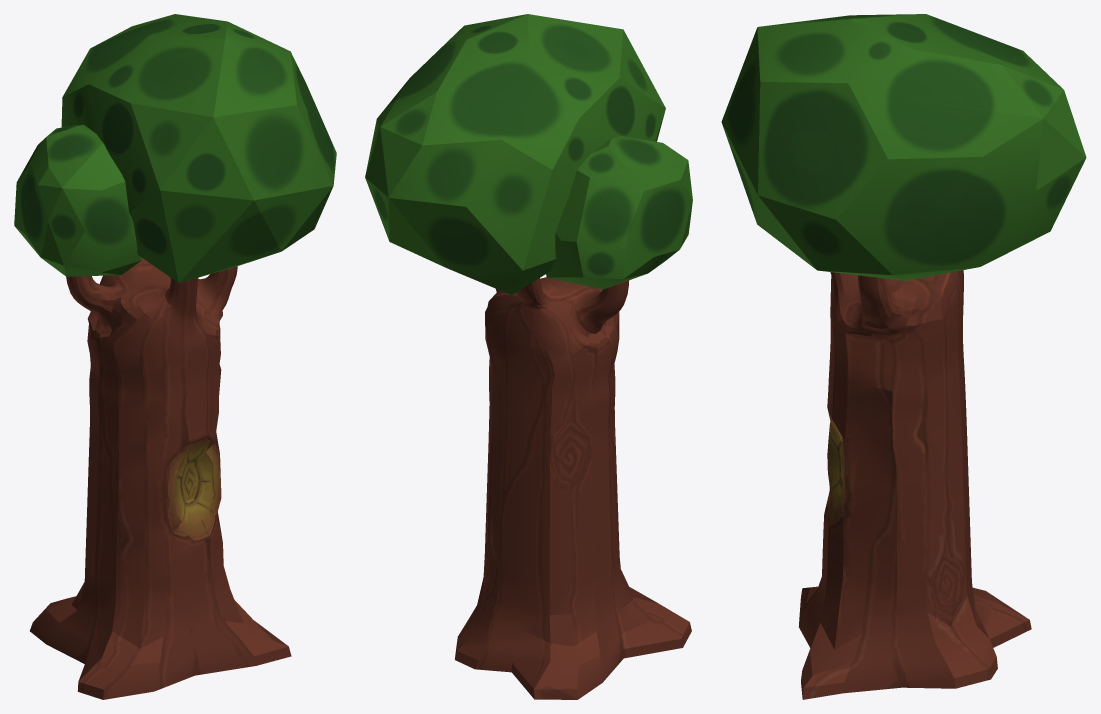
The model's file is üçüncü ağaç 2.fbx.
3 renders of one model, left to right at view 1: azimuth 30°, elevation 25°; view 2: azimuth 150°, elevation 25°; view 3: azimuth 270°, elevation 25°, orthographic. The views are drawn at different scales.
Visible parts, largest first — view 1: Plane.003; view 2: Plane.003; view 3: Plane.003.
Boxes of the visible parts, <box> form: Plane.003: <box>14,14,336,699</box>; Plane.003: <box>365,14,692,699</box>; Plane.003: <box>721,14,1086,699</box>.
Size of the model in its own units: 668 by 1412 by 708.
Materials: 1 (1 with a texture image).
